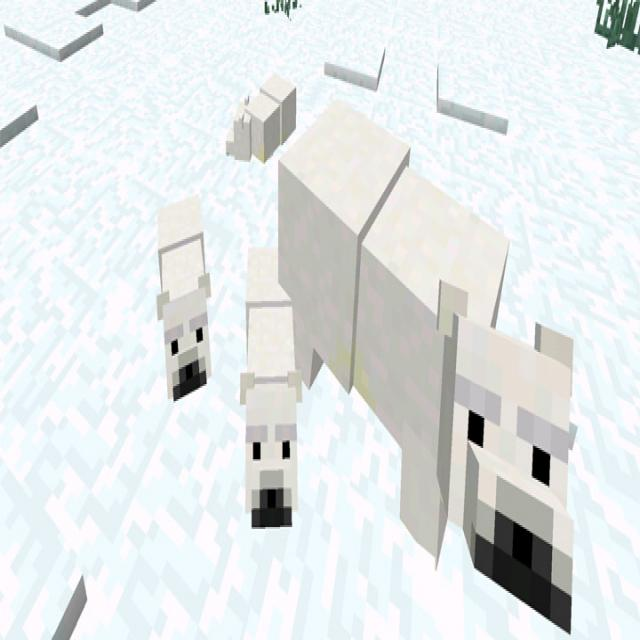Polar Bear: (280, 92, 585, 640), (238, 232, 305, 544), (150, 186, 216, 414), (223, 64, 300, 177)
